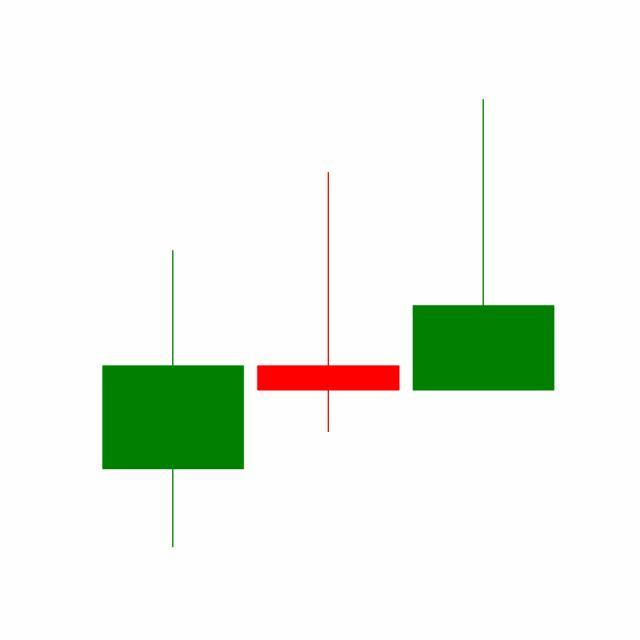Spinning Top: (250, 169, 407, 436)
